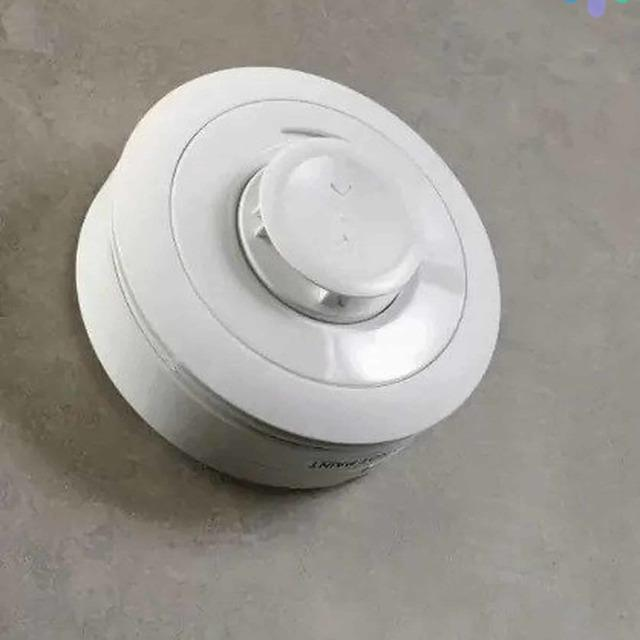Smoke-Detector: (80, 68, 500, 496)
